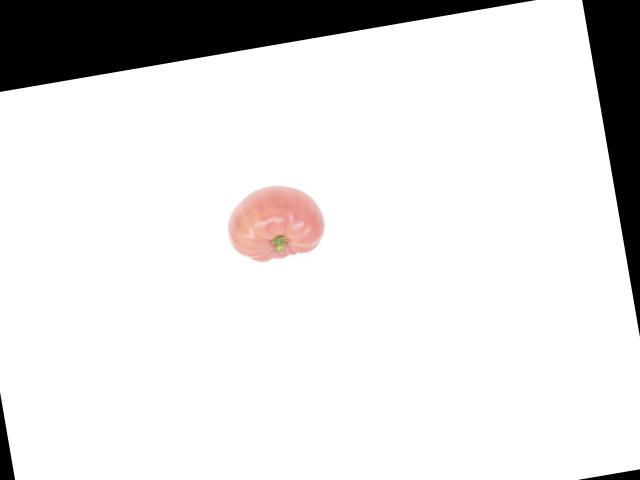tomato: (221, 178, 328, 265)
